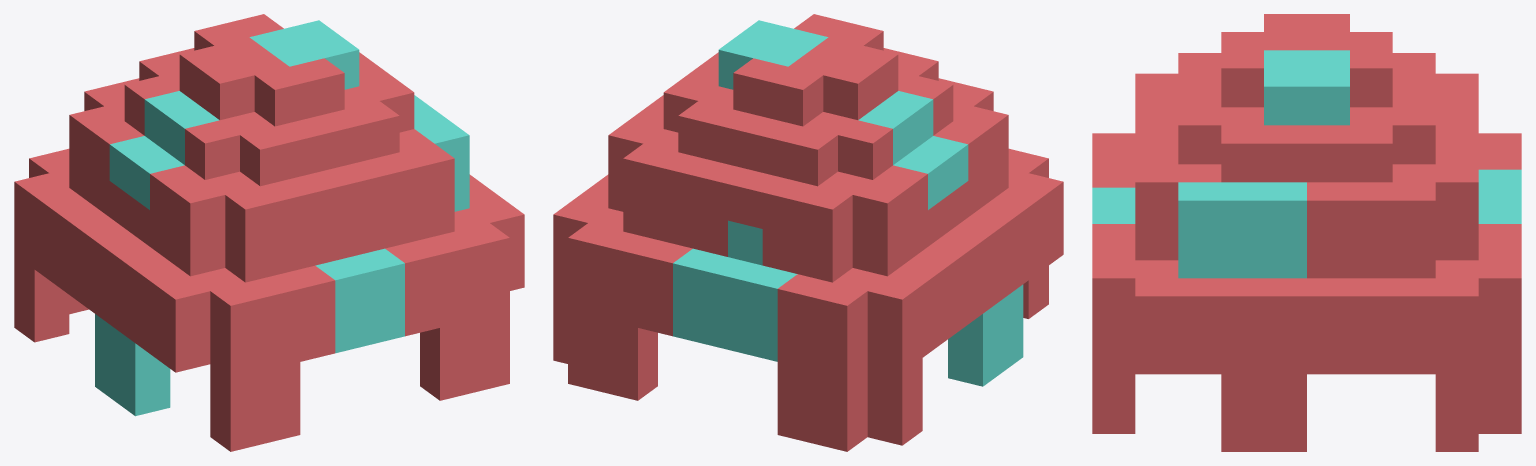
Rendered from eggItem-Top.obj.
The picture shows the model from 3 angles, left to right: view 1: azimuth 30°, elevation 25°; view 2: azimuth 150°, elevation 25°; view 3: azimuth 270°, elevation 25°; orthographic projection. The views are drawn at different scales.
Parts seen in each view (by area): view 1: eggItem-1; view 2: eggItem-1; view 3: eggItem-1.
Part boxes in pixels (box(x1,y1,x2,y2)): eggItem-1: box(14, 14, 524, 451); eggItem-1: box(553, 14, 1063, 451); eggItem-1: box(1092, 14, 1521, 451).
Size of the model in its own units: 10 by 8 by 10.
1 material, 1 textured.
